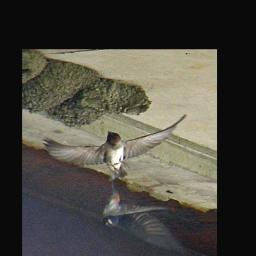Swallow: (39, 113, 190, 184)
